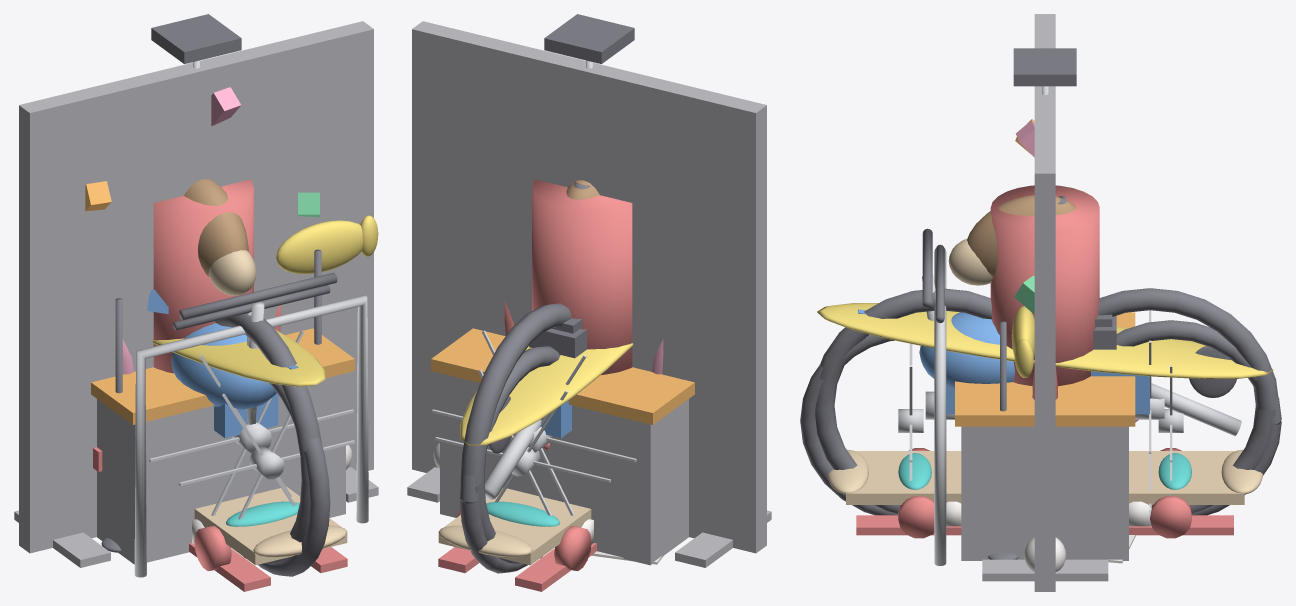
Rendered from Activities.fbx.
The picture shows the model from 3 angles, left to right: view 1: azimuth 30°, elevation 25°; view 2: azimuth 150°, elevation 25°; view 3: azimuth 270°, elevation 25°; orthographic projection. The views are drawn at different scales.
Parts seen in each view (by area): view 1: A_ClimbWall, A_ParkourBox, A_PunchBag, A_Motorbike, A_Bicycle_WheelF, A_Longboard, A_Motorbike_WheelF, A_HobbyHorse, A_Coral, A_Surfboard, A_Skis, A_Hurdle (+2 smaller); view 2: A_ClimbWall, A_ParkourBox, A_PunchBag, A_Bicycle_WheelB, A_Longboard, A_Surfboard, A_Motorbike_WheelB, A_Motorbike, A_Hurdle, A_Skis, A_Skateboard, A_HobbyHorse (+1 smaller); view 3: A_ParkourBox, A_PunchBag, A_Longboard, A_ClimbWall, A_Surfboard, A_Motorbike, A_Bicycle_WheelB, A_Bicycle_WheelF, A_Motorbike_WheelB, A_Motorbike_WheelF, A_HobbyHorse, A_Skis (+4 smaller).
Part boxes in pixels (bbox=[...]): A_ClimbWall: bbox=[19, 21, 373, 553]; A_ParkourBox: bbox=[91, 295, 368, 577]; A_PunchBag: bbox=[151, 14, 253, 373]; A_Motorbike: bbox=[171, 272, 337, 438]; A_Bicycle_WheelF: bbox=[149, 313, 353, 565]; A_Longboard: bbox=[194, 486, 347, 570]; A_Motorbike_WheelF: bbox=[179, 383, 354, 576]; A_HobbyHorse: bbox=[183, 179, 256, 295]; A_Coral: bbox=[122, 215, 378, 374]; A_Surfboard: bbox=[153, 329, 325, 386]; A_Skis: bbox=[101, 249, 347, 591]; A_Hurdle: bbox=[14, 467, 378, 567]; A_ClimbWall: bbox=[412, 21, 766, 553]; A_ParkourBox: bbox=[431, 328, 694, 565]; A_PunchBag: bbox=[532, 14, 634, 374]; A_Bicycle_WheelB: bbox=[432, 303, 636, 565]; A_Longboard: bbox=[438, 487, 591, 570]; A_Surfboard: bbox=[460, 343, 633, 453]; A_Motorbike_WheelB: bbox=[435, 346, 610, 573]; A_Motorbike: bbox=[484, 328, 586, 499]; A_Hurdle: bbox=[407, 467, 771, 567]; A_Skis: bbox=[438, 543, 596, 591]; A_Skateboard: bbox=[486, 501, 593, 544]; A_HobbyHorse: bbox=[566, 180, 599, 199]; A_ParkourBox: bbox=[934, 248, 1135, 565]; A_PunchBag: bbox=[990, 48, 1099, 386]; A_Longboard: bbox=[827, 448, 1262, 538]; A_ClimbWall: bbox=[1014, 14, 1055, 591]; A_Surfboard: bbox=[817, 303, 1273, 397]; A_Motorbike: bbox=[919, 228, 1241, 435]; A_Bicycle_WheelB: bbox=[1098, 288, 1278, 516]; A_Bicycle_WheelF: bbox=[815, 288, 992, 513]; A_Motorbike_WheelB: bbox=[1116, 320, 1281, 515]; A_Motorbike_WheelF: bbox=[800, 334, 923, 515]; A_HobbyHorse: bbox=[948, 195, 1076, 285]; A_Skis: bbox=[856, 321, 1233, 559].
Size of the model in its own units: 0.9 by 1.21 by 1.15.
